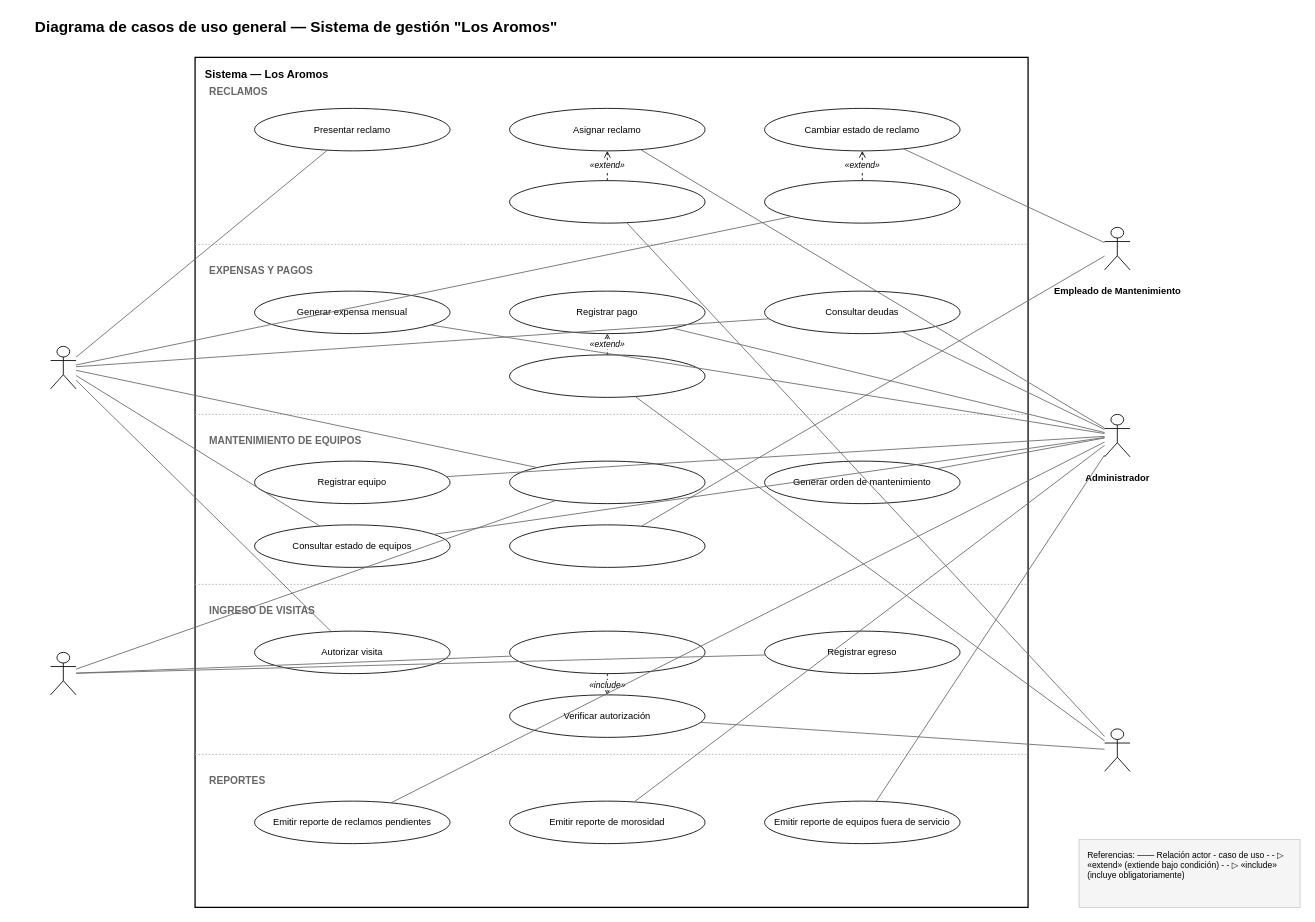
The diagram is 1315 pixels wide and 922 high, and some of its shapes have lost their labels. Each missing label, with the centre of its shape:
Calcular mora: (607,375)
Cerrar orden de mantenimiento: (607,545)
Escalar reclamo: (607,201)
Guardia de Seguridad: (63,673)
Informar falla: (607,482)
Reabrir reclamo: (862,201)
Registrar ingreso: (607,652)
Sistema: (1117,749)
Vecino: (63,367)
